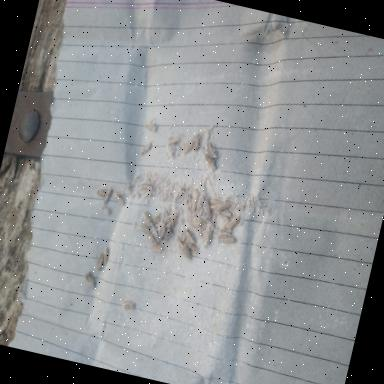pbw: (200, 153, 220, 173), (82, 270, 98, 290), (208, 196, 228, 212), (202, 196, 216, 218), (140, 210, 156, 229), (188, 192, 200, 214), (192, 130, 204, 152), (144, 117, 160, 133), (182, 228, 198, 244), (202, 225, 214, 246), (138, 140, 152, 158), (204, 140, 218, 158), (148, 225, 162, 243), (180, 244, 195, 260), (226, 215, 240, 232), (163, 212, 178, 227), (181, 140, 195, 156), (216, 226, 232, 240), (121, 299, 136, 313), (218, 208, 232, 222), (138, 222, 152, 236), (185, 242, 200, 255), (97, 252, 106, 273), (100, 248, 110, 266), (104, 188, 113, 207), (146, 233, 160, 245), (174, 236, 186, 249), (168, 134, 180, 146), (150, 243, 164, 253), (222, 236, 236, 246), (140, 182, 154, 192), (100, 206, 112, 216), (189, 220, 201, 228)
